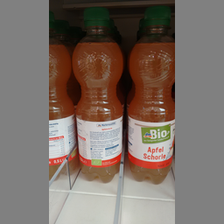soda: (71, 18, 124, 182), (128, 22, 173, 184), (50, 30, 76, 178)
